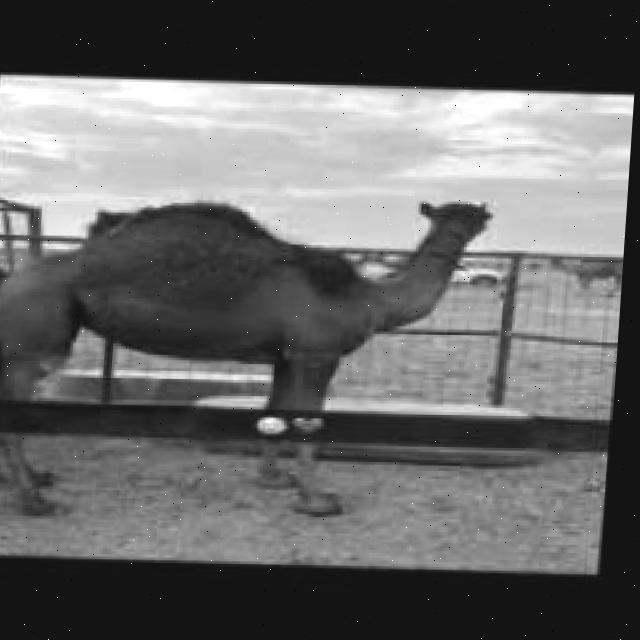Camel: (0, 192, 494, 520)
